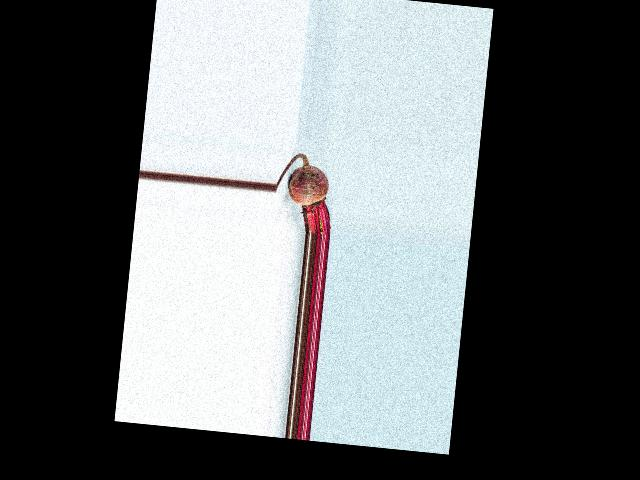beet: (272, 151, 338, 236)
